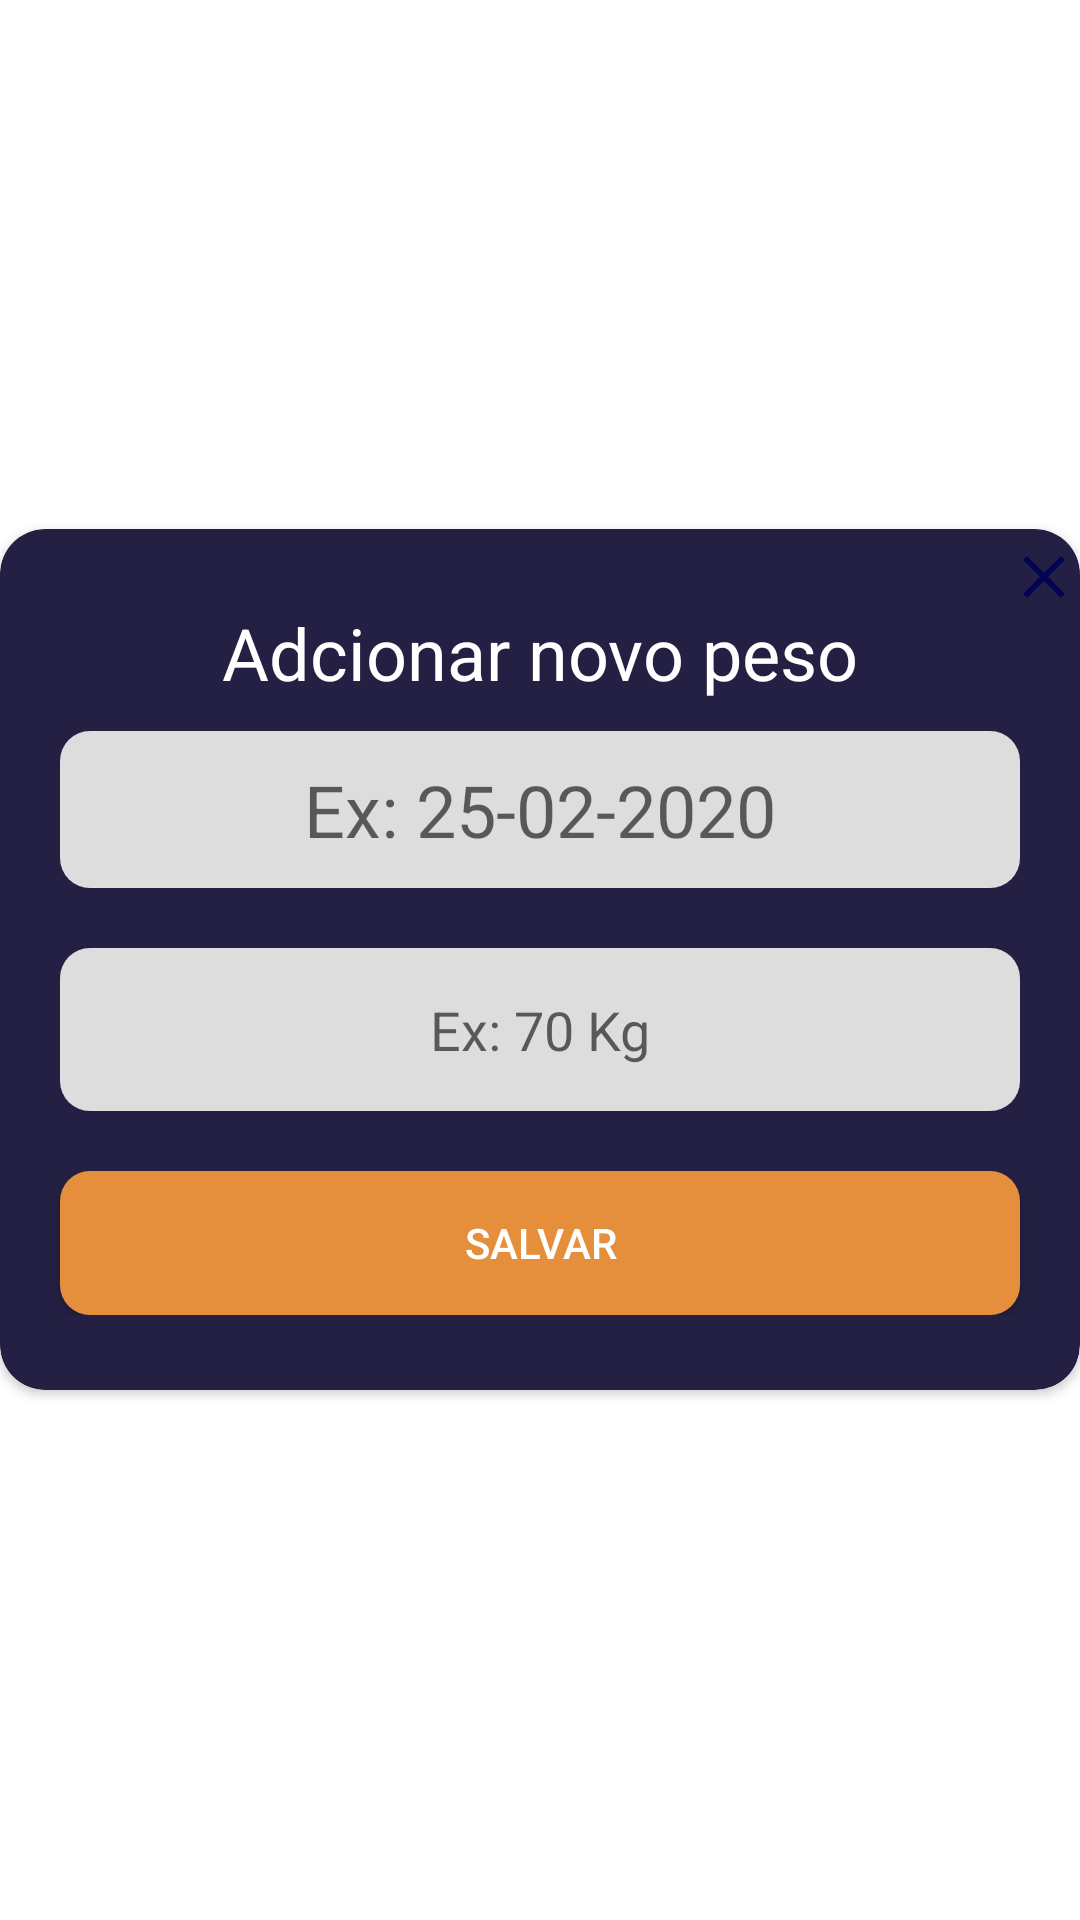

Named icons in this screenshot (1080w x 1920h) and their bounding boxes, region(x1, y1, x2, y2):
close: region(1024, 557, 1064, 597)
